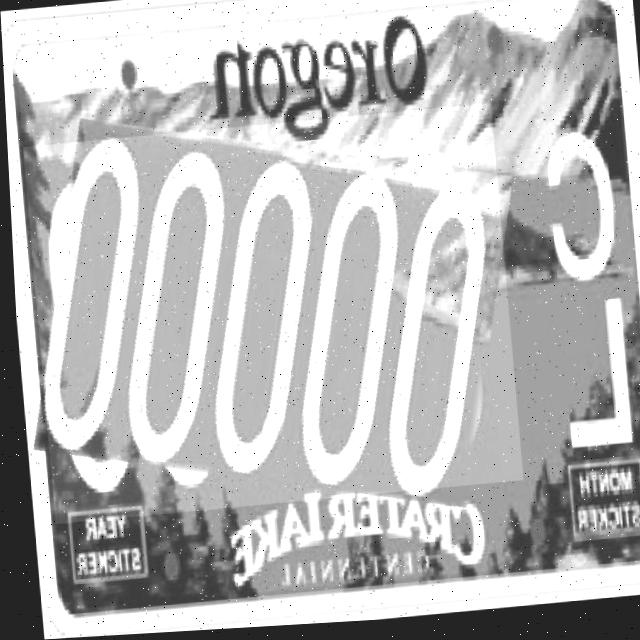LicensePlate: (20, 108, 518, 524)
